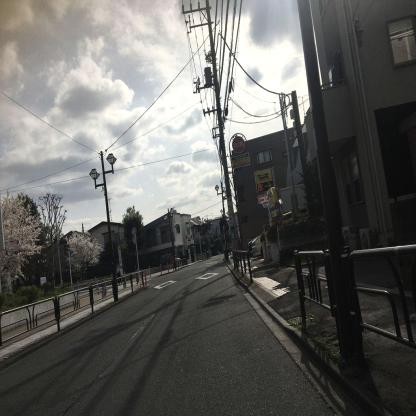Someiyoshino: (1, 189, 44, 287), (64, 226, 106, 274)
